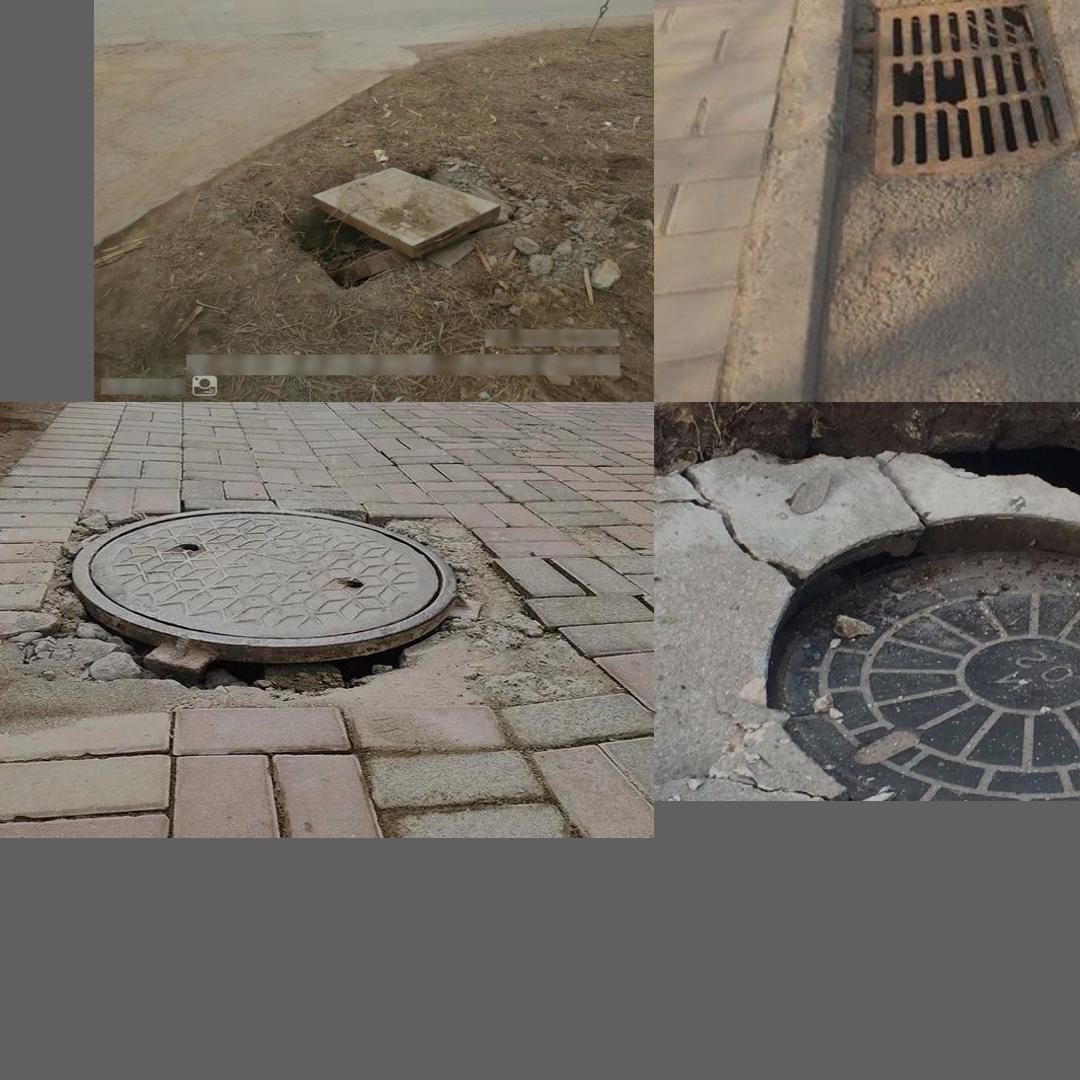circle: (662, 417, 1080, 796), (0, 496, 600, 734), (269, 153, 530, 300)
